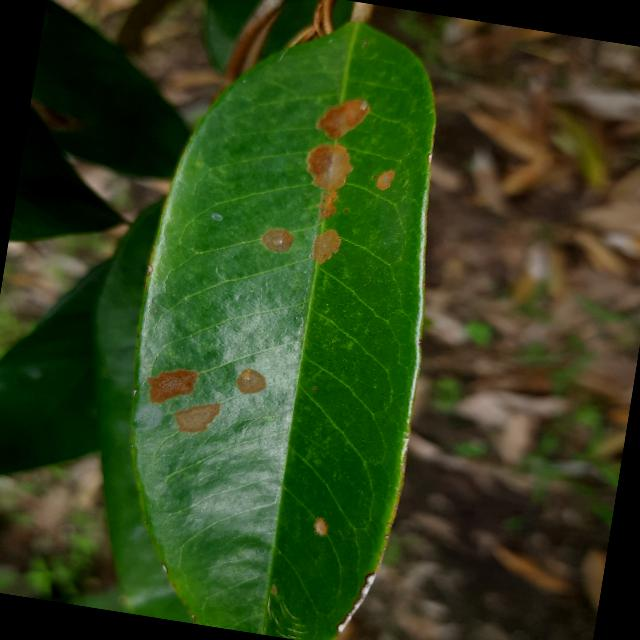Algal Leaf Spot: (85, 0, 483, 639)
